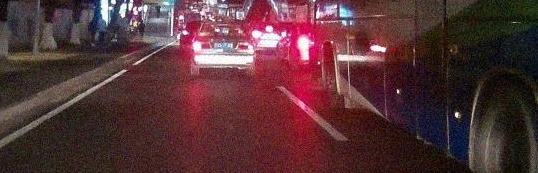L_light: (193, 41, 210, 49)
R_light: (237, 42, 254, 50)
T_light: (217, 26, 227, 29)
night-left: (191, 22, 255, 75)
